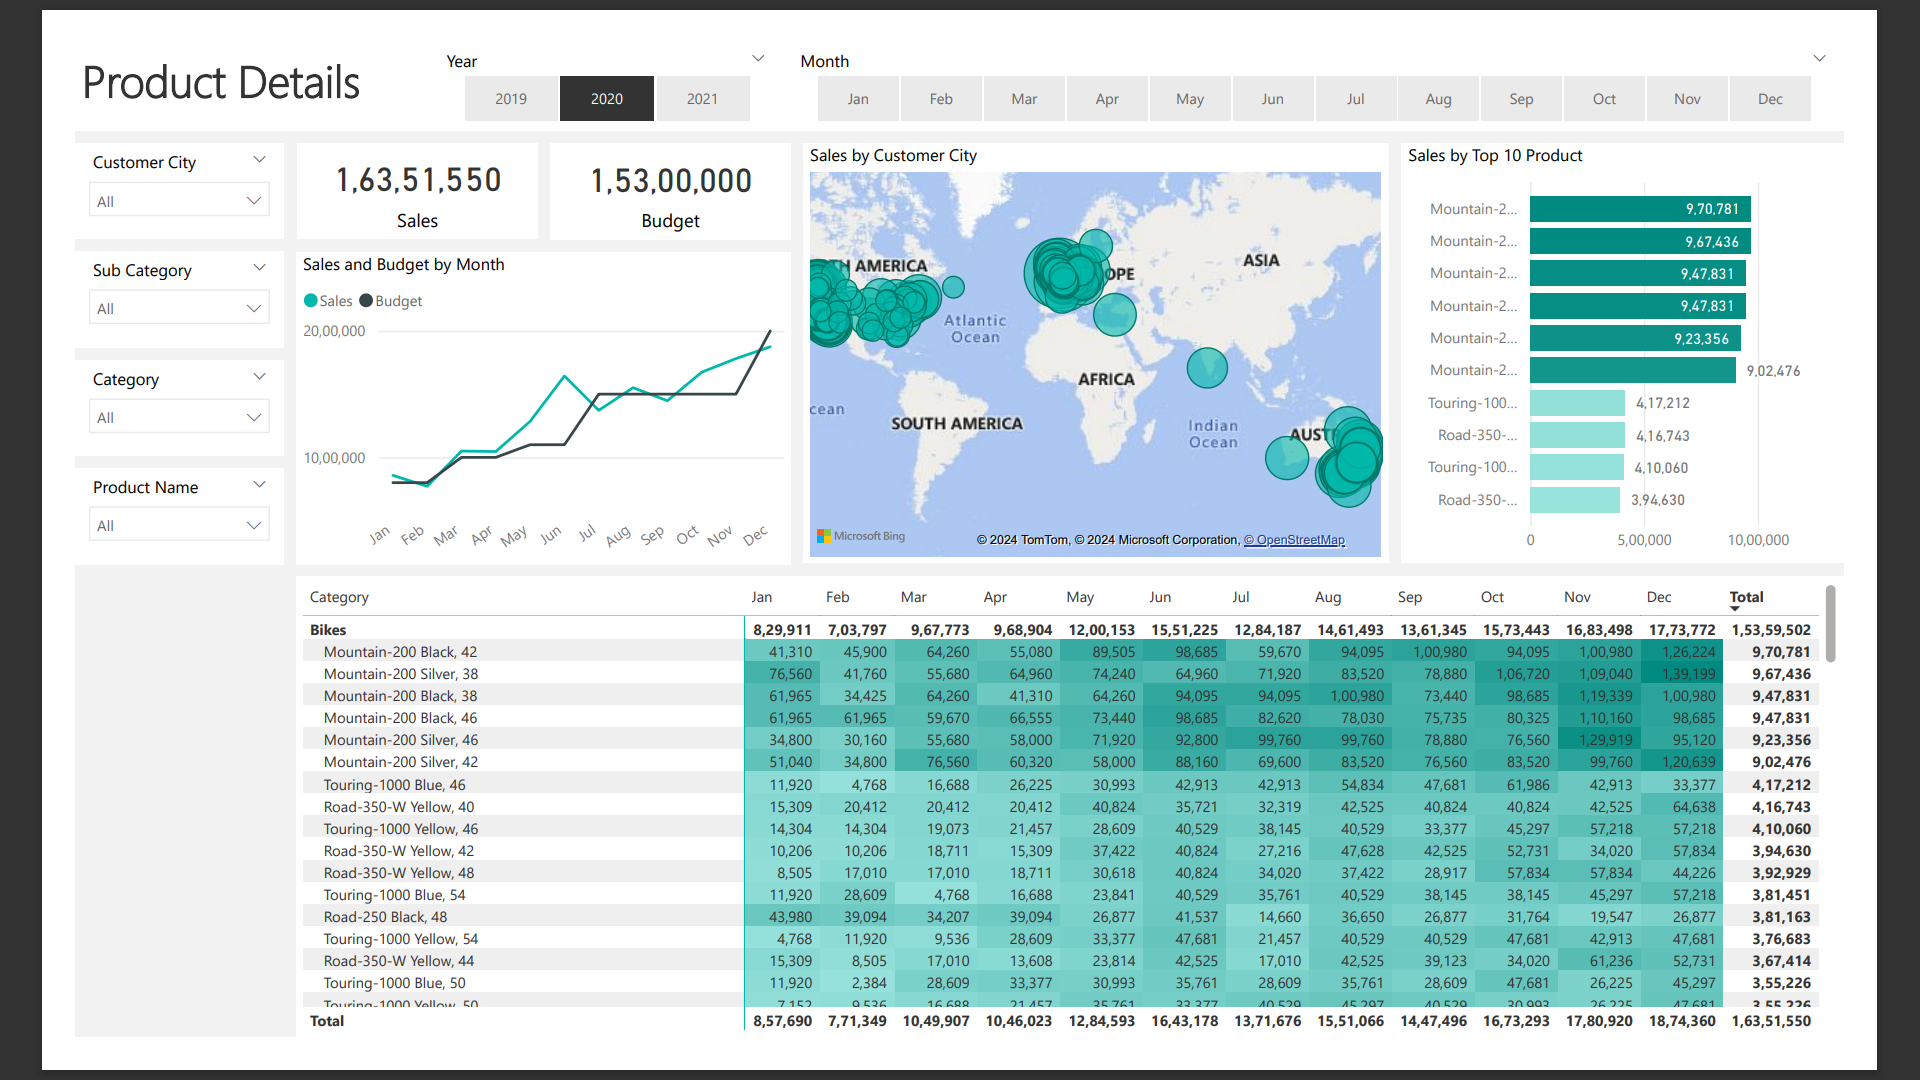

What the dashboard file says about the page in this screenshot:
{"tool":"powerbi","page":{"name":"Product Details","canvas":[1280,720],"ordinal":2},"visuals":[{"type":"textbox","box":[0,0,1280,64],"z":0},{"type":"slicer","fields":{"Values":["DIM_Calendar.Year"]},"box":[256,0,256,64],"z":1000},{"type":"slicer","fields":{"Values":["DIM_Calendar.MonthShort"]},"box":[512,0,768,64],"z":2000},{"type":"slicer","fields":{"Values":["DIM_Customers.Customer City"]},"box":[0,73,150.5,69.3],"z":3000},{"type":"slicer","fields":{"Values":["DIM_Products.Product Category"]},"box":[0,229.9,150.5,69.3],"z":4000},{"type":"slicer","fields":{"Values":["DIM_Products.Product Name"]},"box":[0,308.4,150.5,69.3],"z":5000},{"type":"slicer","fields":{"Values":["DIM_Products.Sub Category"]},"box":[0,151.4,150.5,69.3],"z":6000},{"type":"lineChart","fields":{"Category":["DIM_Calendar.MonthShort"],"Y":["Analysis Metrics.Sales","Analysis Metrics.Budget"]},"box":[159.8,151.8,358.7,226.4],"z":7000},{"type":"card","fields":{"Values":["Analysis Metrics.Sales"]},"box":[160.7,72.8,174,69.2],"z":8000},{"type":"map","fields":{"Category":["DIM_Customers.Customer City"],"Size":["Analysis Metrics.Sales"]},"box":[527.3,72.8,423.5,304.5],"z":9000},{"type":"card","fields":{"Values":["Analysis Metrics.Budget"]},"box":[343.6,72.8,174.9,70.1],"z":10000},{"type":"pivotTable","fields":{"Rows":["DIM_Products.Product Category","DIM_Products.Product Name"],"Columns":["DIM_Calendar.MonthShort"],"Values":["Analysis Metrics.Sales"]},"box":[159.8,387.1,1120.4,332.9],"z":11000},{"type":"clusteredBarChart","title":"Sales by Top 10 Product","fields":{"Category":["DIM_Products.Product Name"],"Y":["Analysis Metrics.Sales"]},"box":[959.7,72.8,320.5,304.5],"z":12000}]}

Visuals, with their boxes in screenshot pixels (x1, y1, x2, y2), scaled from the page's 1280x720 canvas onto the 1920x1080 screenshot:
textbox: [x1=0, y1=0, x2=1919, y2=96]
slicer - DIM_Calendar.Year: [x1=384, y1=0, x2=768, y2=96]
slicer - DIM_Calendar.MonthShort: [x1=768, y1=0, x2=1919, y2=96]
slicer - DIM_Customers.Customer City: [x1=0, y1=110, x2=226, y2=213]
slicer - DIM_Products.Product Category: [x1=0, y1=345, x2=226, y2=449]
slicer - DIM_Products.Product Name: [x1=0, y1=463, x2=226, y2=567]
slicer - DIM_Products.Sub Category: [x1=0, y1=227, x2=226, y2=331]
lineChart - DIM_Calendar.MonthShort x Analysis Metrics.Sales: [x1=240, y1=228, x2=778, y2=567]
card - Analysis Metrics.Sales: [x1=241, y1=109, x2=502, y2=213]
map - DIM_Customers.Customer City x Analysis Metrics.Sales: [x1=791, y1=109, x2=1426, y2=566]
card - Analysis Metrics.Budget: [x1=515, y1=109, x2=778, y2=214]
pivotTable - DIM_Products.Product Category x DIM_Products.Product Name: [x1=240, y1=581, x2=1919, y2=1079]
"Sales by Top 10 Product" clusteredBarChart: [x1=1440, y1=109, x2=1919, y2=566]
